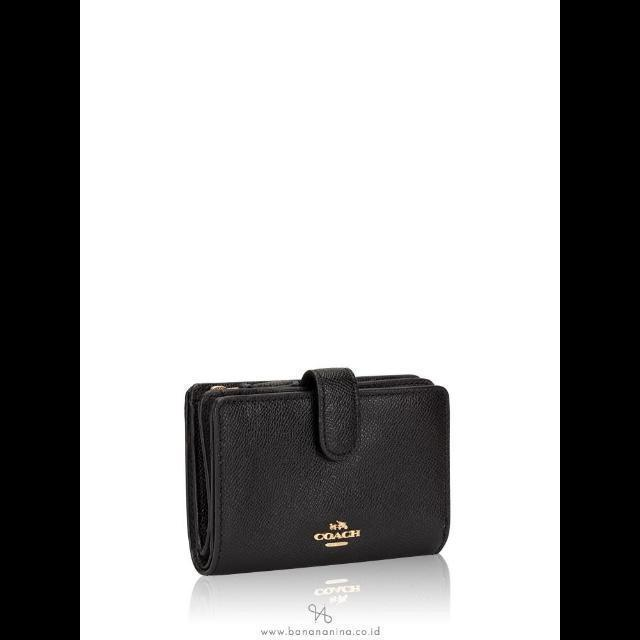wallet: (178, 362, 460, 582)
